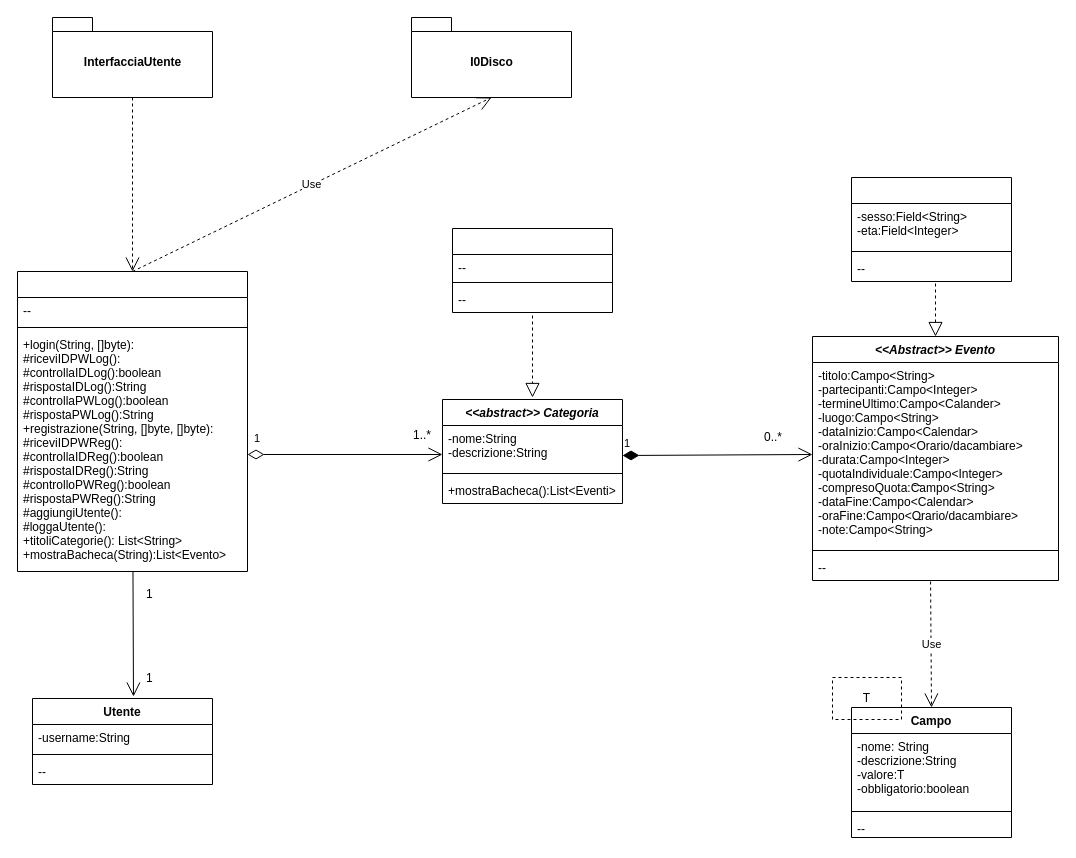
Image size: 1076x858. Some labels were removed from this diagram. Each missing label, with the box of its shape:
PartitaCalcioCat: (452, 228, 612, 312)
PartitaCalcioEvento: (850, 176, 1012, 282)
SocialNetwork: (16, 270, 248, 572)
